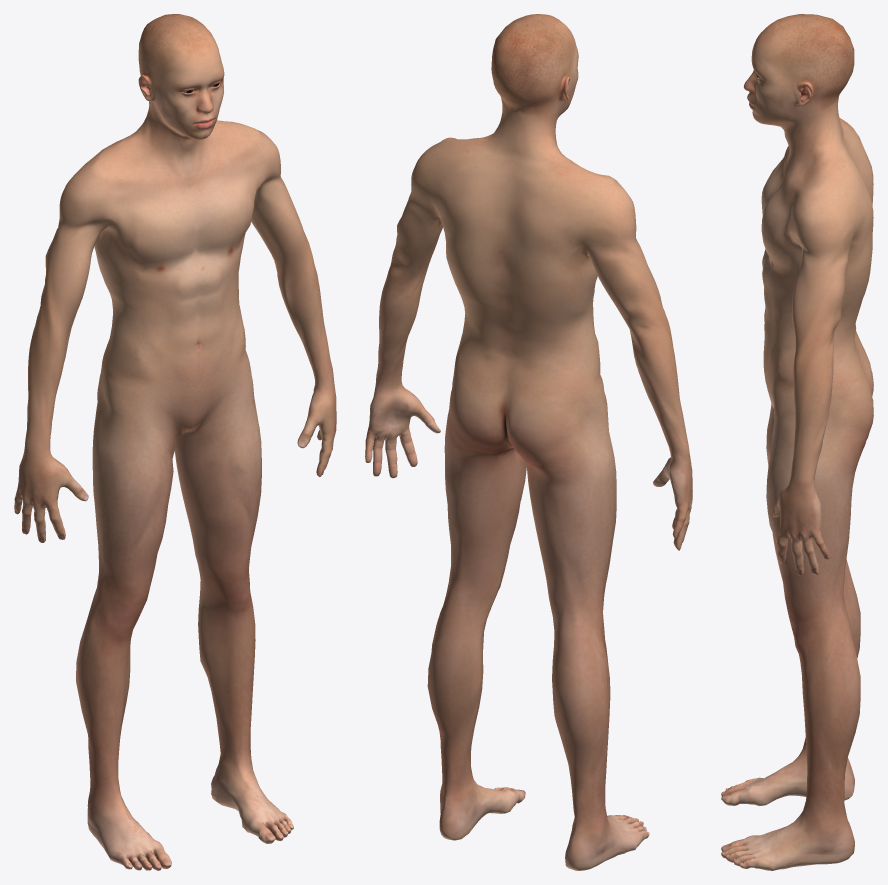
Rendered from twin-natural-skin-v1.glb.
3 views of the same model, side by side, from view 1: azimuth 30°, elevation 25°; view 2: azimuth 150°, elevation 25°; view 3: azimuth 270°, elevation 25° (orthographic).
Parts seen in each view (by area): view 1: twin-region:legs, twin-region:neutral, twin-region:arms, twin-region:chest, twin-region:core, twin-region:shoulders, twin-region:abs; view 2: twin-region:legs, twin-region:back, twin-region:neutral, twin-region:arms, twin-region:glutes, twin-region:shoulders, twin-region:core; view 3: twin-region:neutral, twin-region:legs, twin-region:arms, twin-region:shoulders, twin-region:back, twin-region:glutes, twin-region:chest, twin-region:core, twin-region:abs.
Part boxes in pixels (x1,y1,x2,y2): twin-region:legs: [76, 363, 261, 796]; twin-region:neutral: [14, 14, 336, 870]; twin-region:arms: [25, 189, 332, 448]; twin-region:chest: [103, 161, 260, 280]; twin-region:core: [99, 233, 245, 397]; twin-region:shoulders: [48, 122, 294, 266]; twin-region:abs: [158, 260, 231, 383]; twin-region:legs: [427, 392, 616, 825]; twin-region:back: [431, 149, 594, 391]; twin-region:neutral: [365, 14, 692, 870]; twin-region:arms: [375, 209, 689, 462]; twin-region:glutes: [448, 349, 592, 493]; twin-region:shoulders: [401, 137, 650, 280]; twin-region:core: [573, 275, 600, 386]; twin-region:neutral: [721, 14, 854, 870]; twin-region:legs: [766, 398, 860, 820]; twin-region:arms: [791, 262, 847, 489]; twin-region:shoulders: [789, 177, 861, 298]; twin-region:back: [833, 127, 873, 377]; twin-region:glutes: [829, 334, 873, 479]; twin-region:chest: [761, 151, 802, 278]; twin-region:core: [767, 269, 798, 392]; twin-region:abs: [762, 249, 773, 374].
Size of the model in its own units: 0.7525 by 1.85 by 0.3151.
10 materials, 10 textured.
